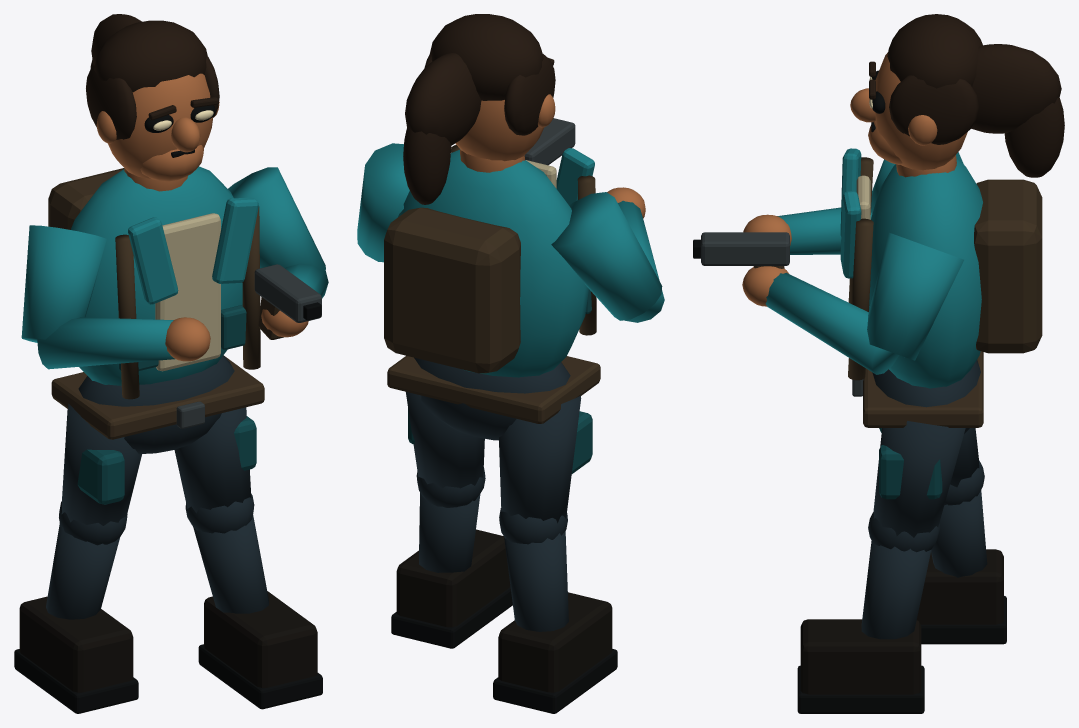
File: survivor_01.glb
3 views of the same model, side by side, from view 1: azimuth 30°, elevation 25°; view 2: azimuth 150°, elevation 25°; view 3: azimuth 270°, elevation 25° (orthographic).
Visible parts, largest first — view 1: survivor_01; view 2: survivor_01; view 3: survivor_01.
Boxes of the visible parts, x1=… form: survivor_01: x1=14, y1=14, x2=328, y2=713; survivor_01: x1=357, y1=14, x2=664, y2=713; survivor_01: x1=693, y1=14, x2=1064, y2=713.
Size of the model in its own units: 0.5398 by 1.12 by 0.5855.
